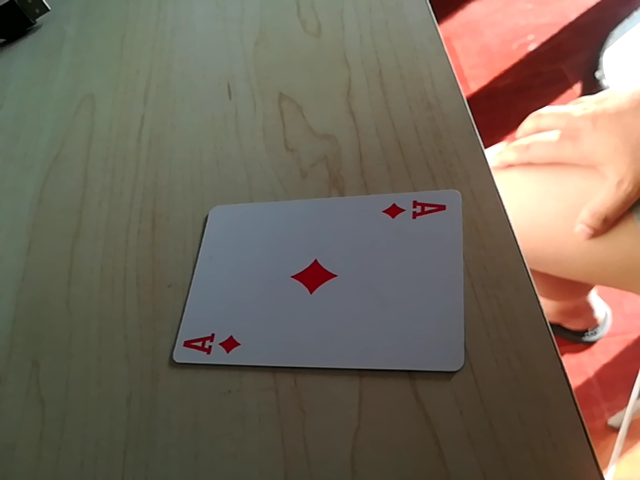fk a: (176, 328, 243, 361), (380, 198, 450, 224)
